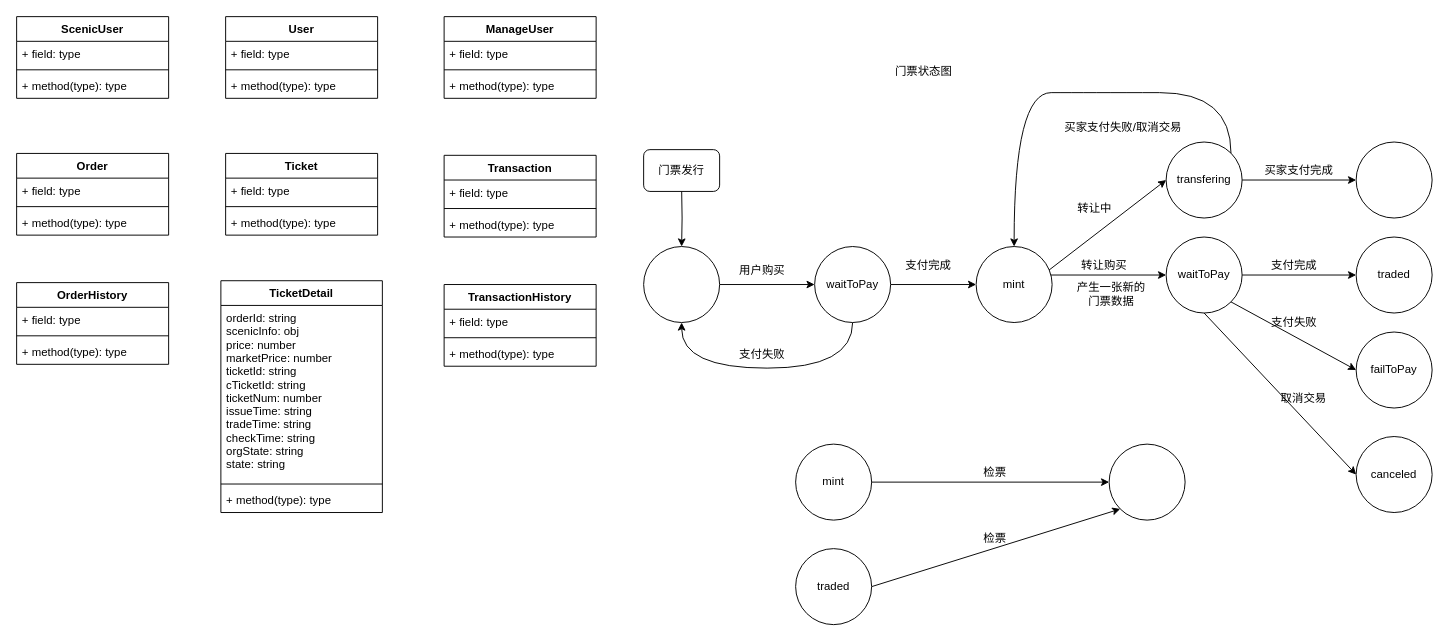
Some shapes in this 1449 by 641 pixel diagram are drawn without their labels. The shapes that lost their labels are listed below. From the top down, each one's centre as x and y in pixels, then its label:
At [1393,179]: "transfered".
At [681,284]: "issued".
At [1146,481]: "checked".
